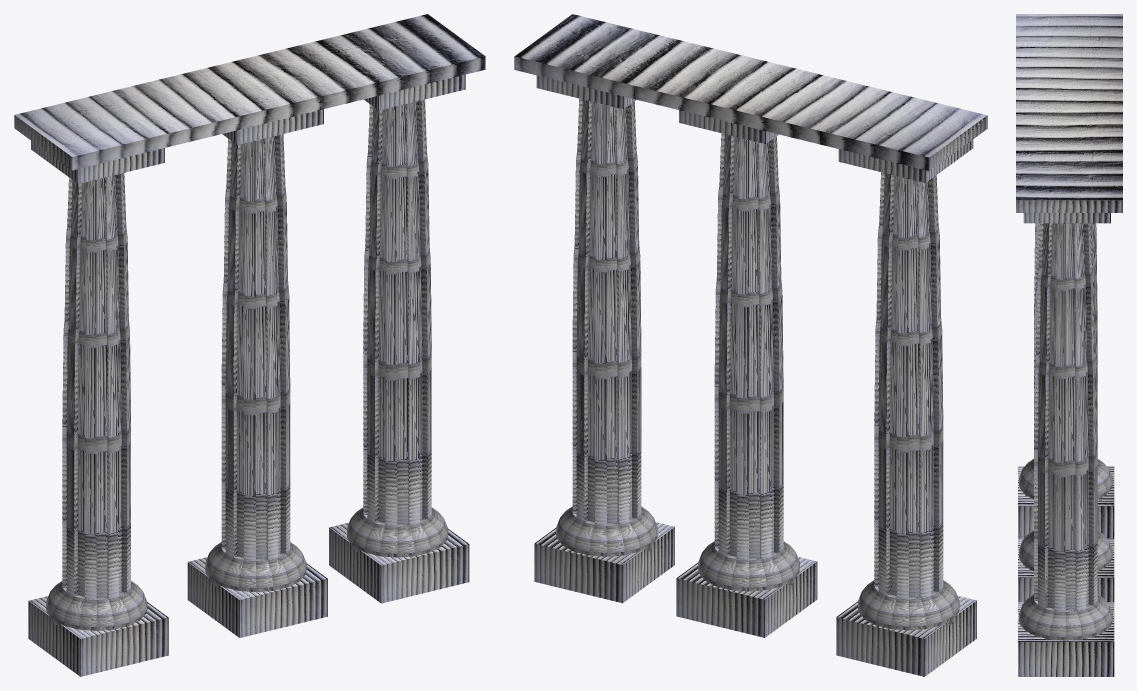
The model's file is Level 2 joint Pillar.fbx.
3 views of the same model, side by side, from view 1: azimuth 30°, elevation 25°; view 2: azimuth 150°, elevation 25°; view 3: azimuth 270°, elevation 25° (orthographic). The views are drawn at different scales.
Visible parts, largest first — view 1: Cylinder002; view 2: Cylinder002; view 3: Cylinder002.
Boxes of the visible parts, x1,y1,x2,y2 form: Cylinder002: (14,14,485,676); Cylinder002: (514,14,987,676); Cylinder002: (1016,14,1122,676).
Size of the model in its own units: 100 by 121 by 24.24.
Materials: 1 (1 with a texture image).
